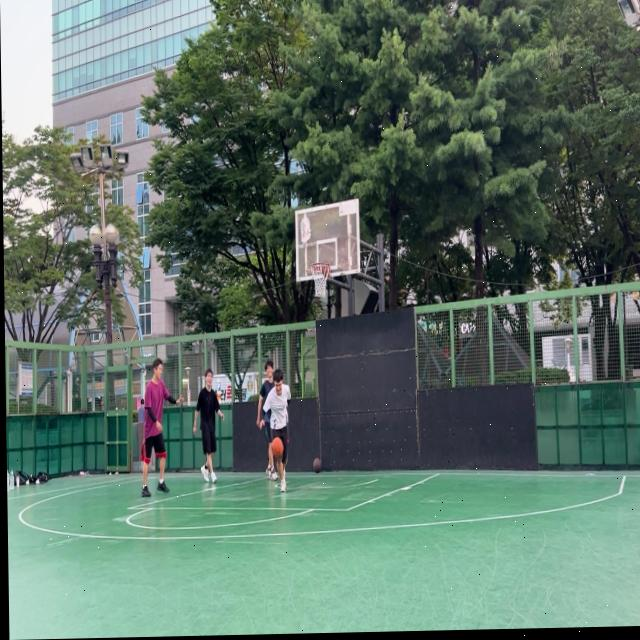basketball: (271, 437, 283, 459), (313, 457, 322, 473)
hoop: (310, 261, 331, 299)
